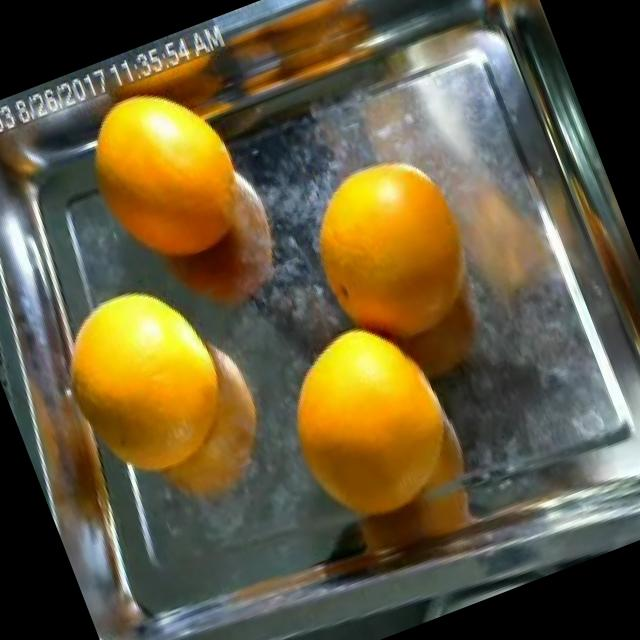Fruit: (264, 118, 508, 376), (50, 56, 271, 305)
